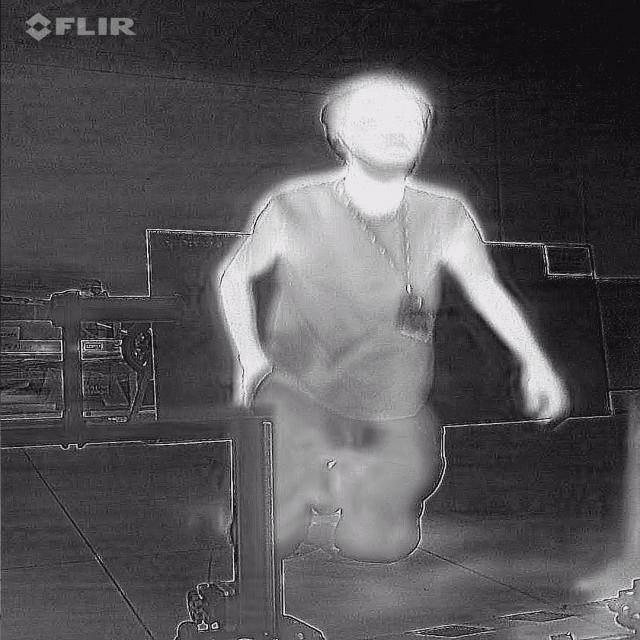Victim: (218, 70, 578, 573)
